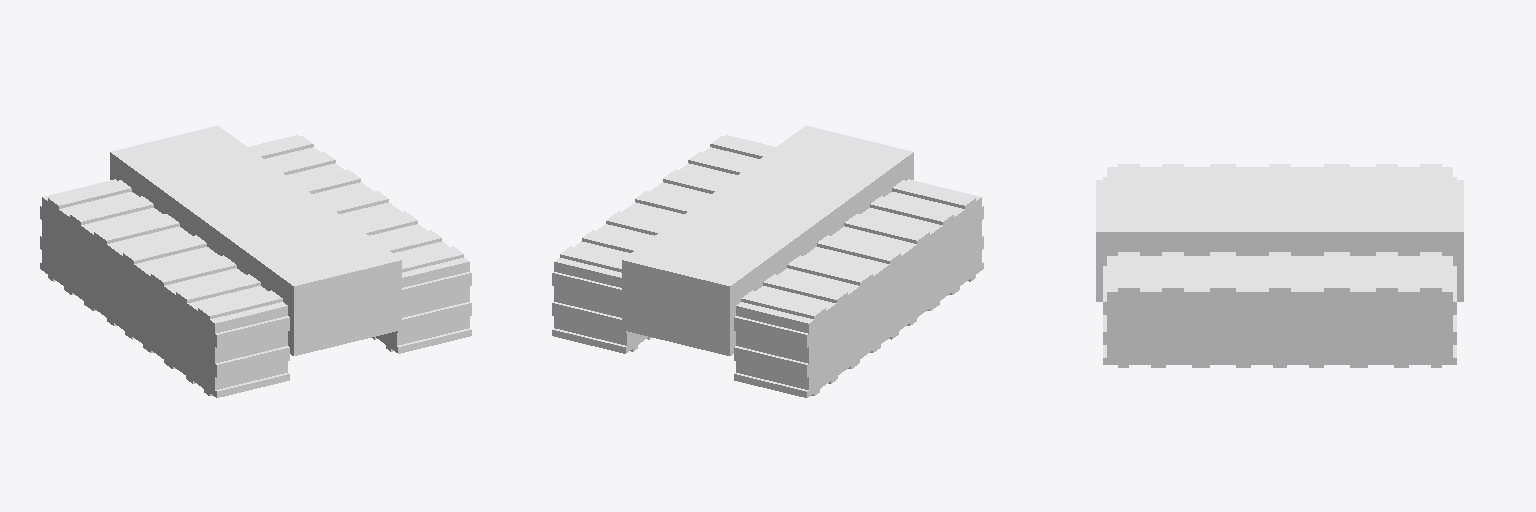
The model's file is TankWheels1.obj.
3 views of the same model, side by side, from view 1: azimuth 30°, elevation 25°; view 2: azimuth 150°, elevation 25°; view 3: azimuth 270°, elevation 25° (orthographic).
Parts seen in each view (by area): view 1: object 1; view 2: object 1; view 3: object 1.
Part boxes in pixels (bbox=[...]): object 1: bbox=[40, 126, 471, 397]; object 1: bbox=[552, 126, 983, 397]; object 1: bbox=[1096, 164, 1463, 367].
Size of the model in its own units: 8 by 3 by 10.